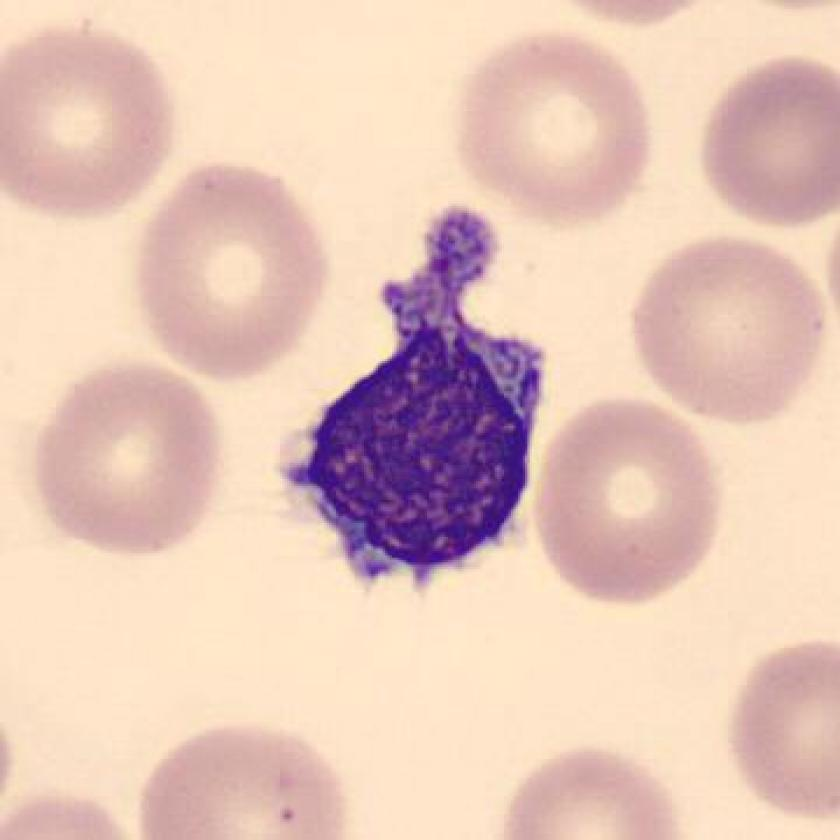lymphocyte: (270, 196, 571, 601)
